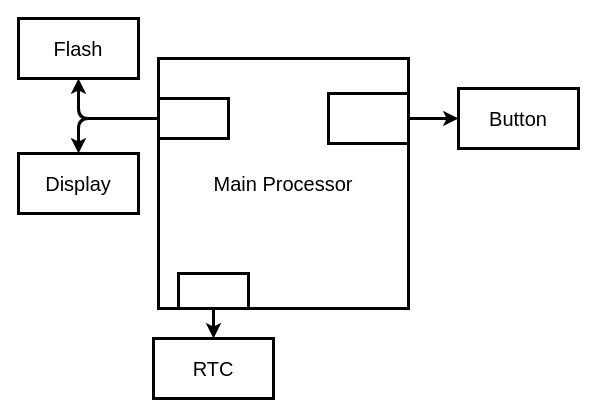
This 597x417 diagram has some shape labels left out. Here are the shapes that lost their labels. From the top down, the box of each, then its label:
(156, 96, 230, 140): SPI
(326, 92, 410, 144): GPIO
(176, 272, 250, 310): I2C
